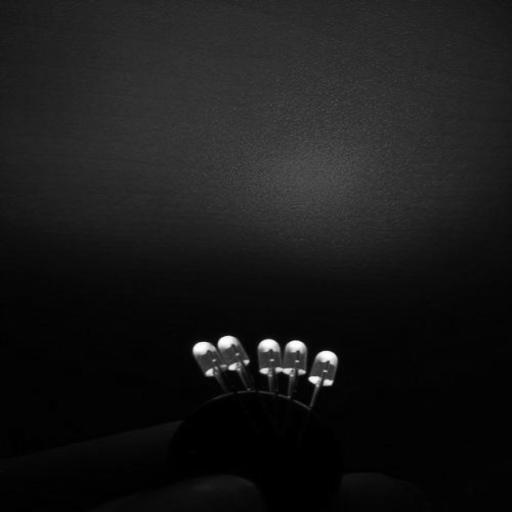LED: (222, 329, 276, 405), (179, 336, 234, 402), (264, 334, 311, 400), (306, 329, 347, 401)
